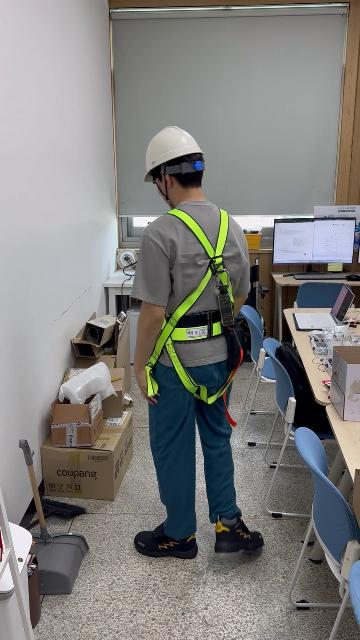helmet_worn: (142, 125, 205, 182)
shoe_worn: (134, 523, 198, 559), (213, 513, 263, 553)
vest_worn: (143, 211, 240, 402)
